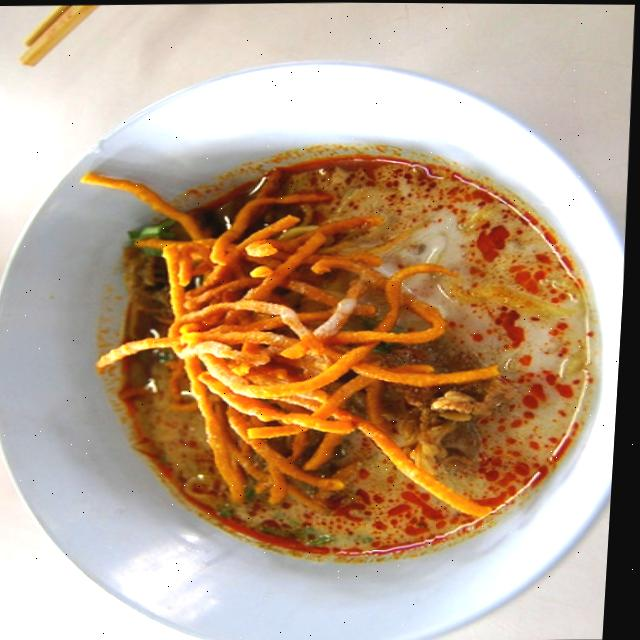面条主食: (0, 43, 638, 640)
